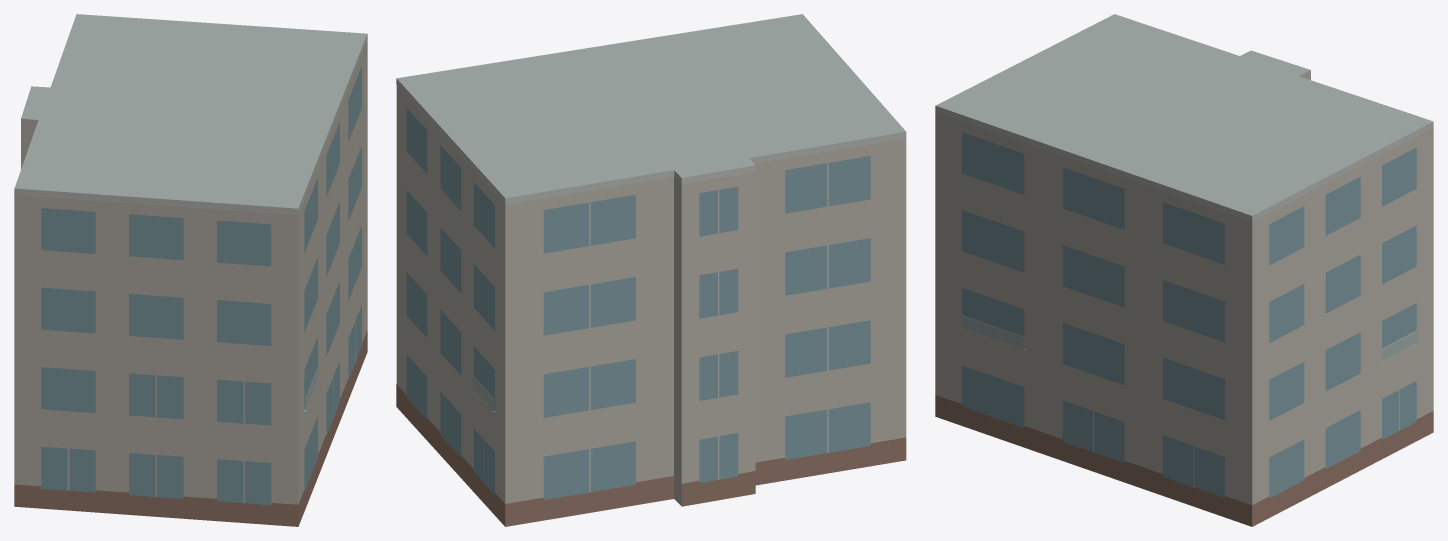
Rendered from survey-upis-32703263.glb.
3 renders of one model, left to right at view 1: azimuth 30°, elevation 25°; view 2: azimuth 150°, elevation 25°; view 3: azimuth 270°, elevation 25°, orthographic. The views are drawn at different scales.
Parts seen in each view (by area): view 1: survey-upis-32703263.tmp; view 2: survey-upis-32703263.tmp; view 3: survey-upis-32703263.tmp.
Boxes of the visible parts, left/top/right/bottom form: survey-upis-32703263.tmp: left=14, top=14, right=367, bottom=526; survey-upis-32703263.tmp: left=396, top=14, right=906, bottom=526; survey-upis-32703263.tmp: left=935, top=14, right=1433, bottom=526.
Size of the model in its own units: 16.72 by 12 by 17.43.
